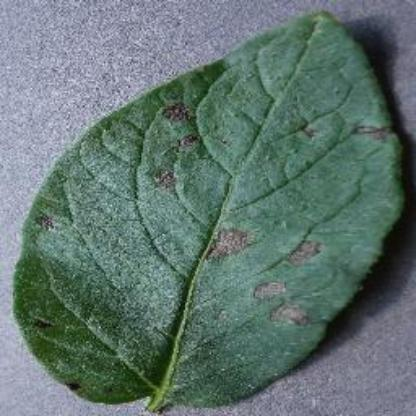Early-Blight: (12, 10, 408, 410)
